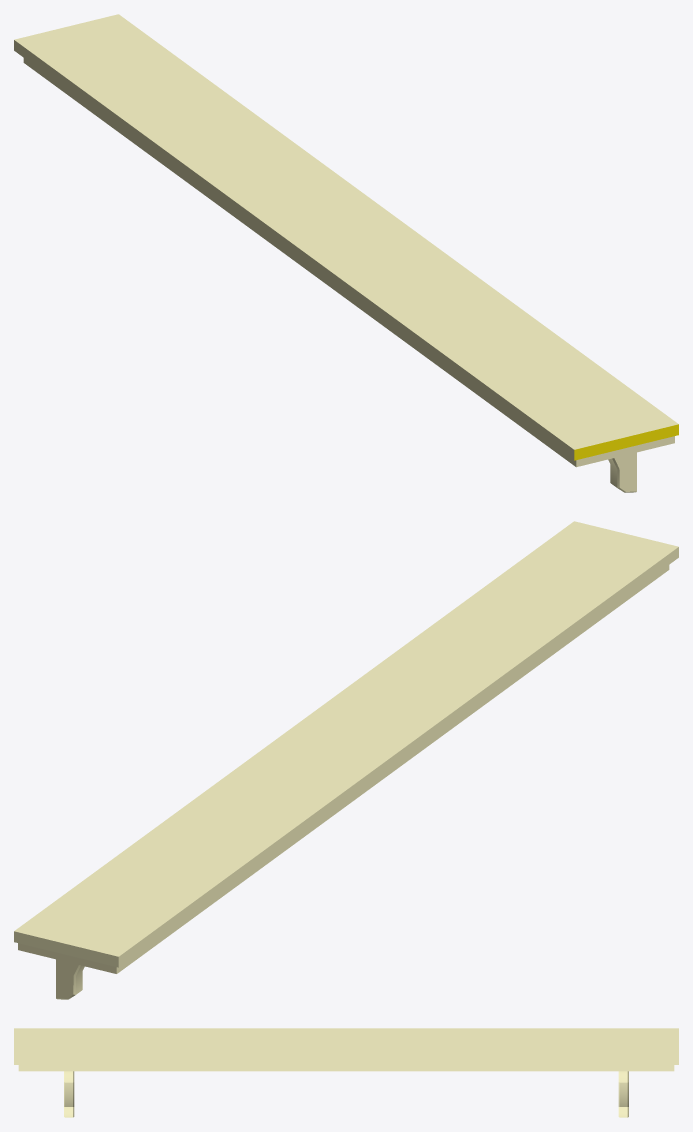
File: lv2pathboardfix.fbx
3 views of the same model, one above another, from view 1: azimuth 30°, elevation 25°; view 2: azimuth 150°, elevation 25°; view 3: azimuth 270°, elevation 25° (orthographic). The views are drawn at different scales.
Visible parts, largest first — view 1: yangtai_beta_polySurface3360; view 2: yangtai_beta_polySurface3360; view 3: yangtai_beta_polySurface3360.
Boxes of the visible parts, <box> form: yangtai_beta_polySurface3360: <box>14,14,678,492</box>; yangtai_beta_polySurface3360: <box>14,521,678,999</box>; yangtai_beta_polySurface3360: <box>14,1028,678,1117</box>.
Bounding box in the file's own units: 105 × 95.26 × 971.
